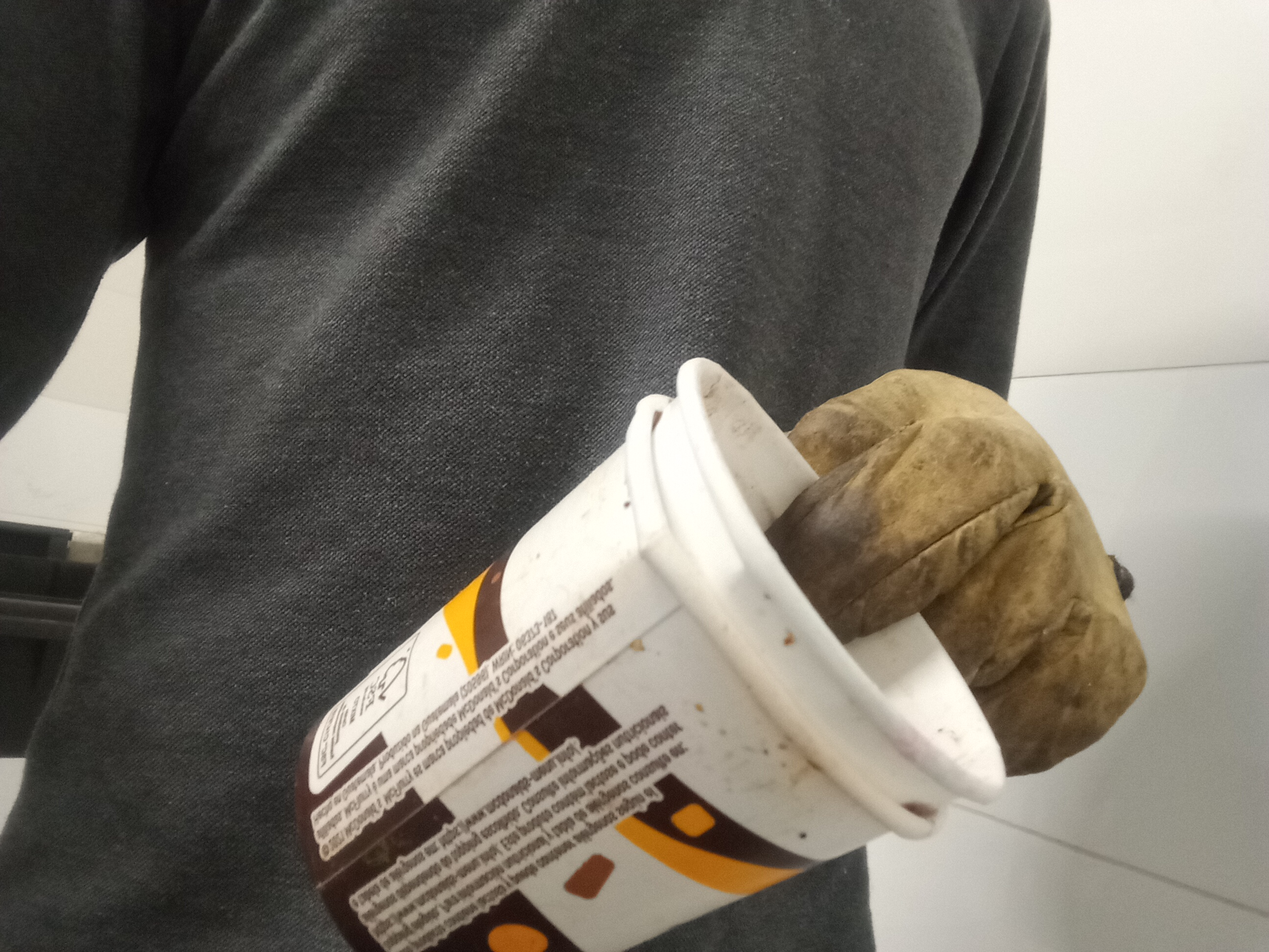Plastico: (299, 357, 1005, 952)
